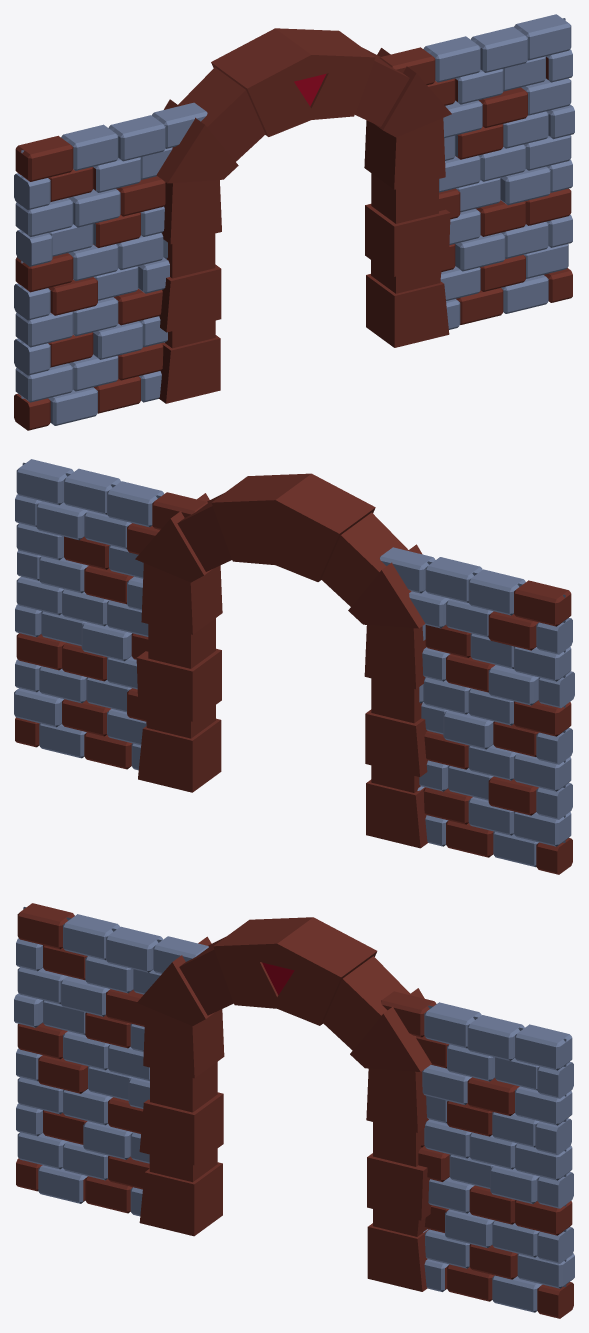
The model's file is red_door.fbx.
The picture shows the model from 3 angles, top to bottom: view 1: azimuth 30°, elevation 25°; view 2: azimuth 150°, elevation 25°; view 3: azimuth 330°, elevation 25°; orthographic projection.
Parts seen in each view (by area): view 1: brick wall with bars.001; view 2: brick wall with bars.001; view 3: brick wall with bars.001.
Boxes of the visible parts, <box> form: brick wall with bars.001: <box>14,14,574,430</box>; brick wall with bars.001: <box>14,459,574,874</box>; brick wall with bars.001: <box>14,903,574,1318</box>.
Bounding box in the file's own units: 632 × 354 × 73.09.
